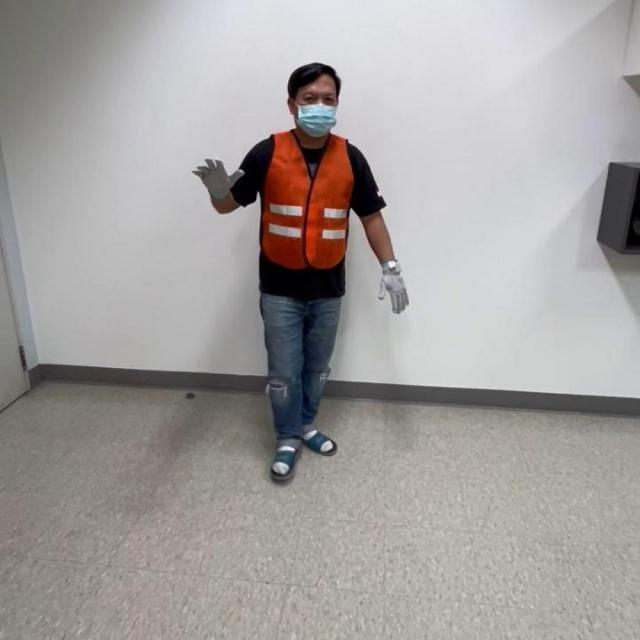gloved_hand: (193, 152, 248, 204), (376, 254, 412, 320)
